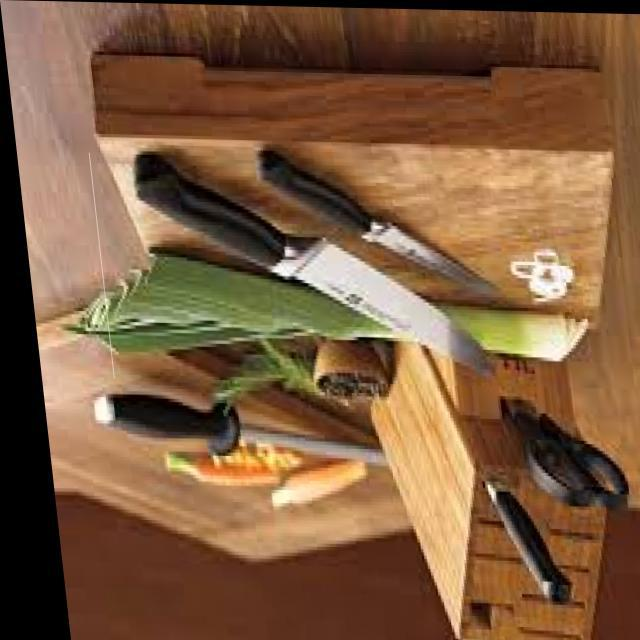knife: (131, 150, 493, 377), (252, 142, 501, 296), (481, 476, 573, 607)
